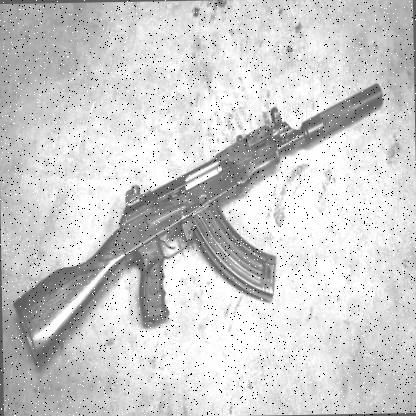rifle: (9, 49, 386, 368)
